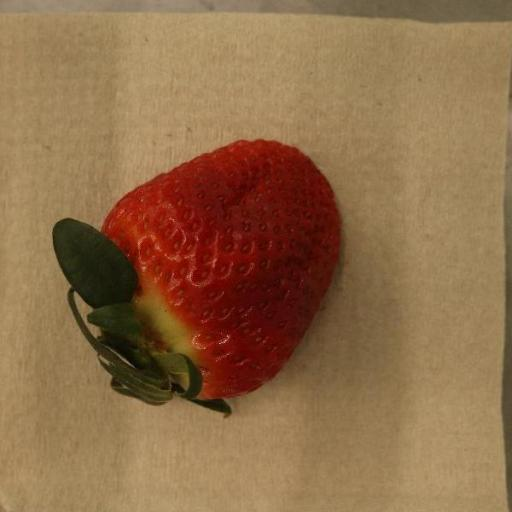Strawberry: (50, 139, 343, 418)
